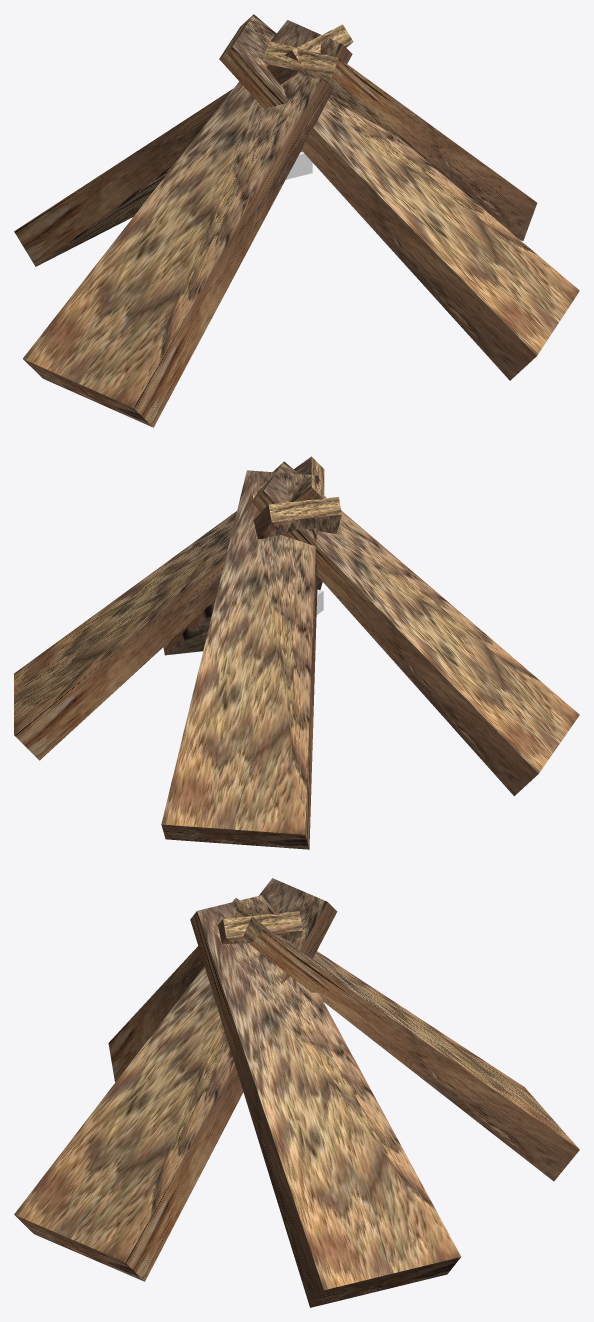
The model's file is woodFire.fbx.
3 views of the same model, one above another, from view 1: azimuth 30°, elevation 25°; view 2: azimuth 150°, elevation 25°; view 3: azimuth 270°, elevation 25° (orthographic). The views are drawn at different scales.
Visible parts, largest first — view 1: wood; view 2: wood; view 3: wood.
Boxes of the visible parts, bbox=[...] form: wood: bbox=[14, 14, 579, 427]; wood: bbox=[14, 456, 579, 849]; wood: bbox=[14, 878, 579, 1307].
Size of the model in its own units: 335 by 167 by 305.
Materials: 1 (1 with a texture image).
